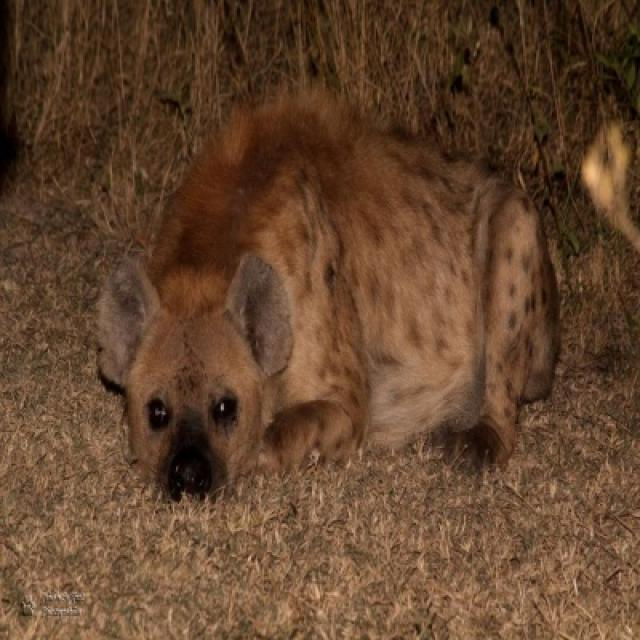hyena: (99, 91, 560, 506)
